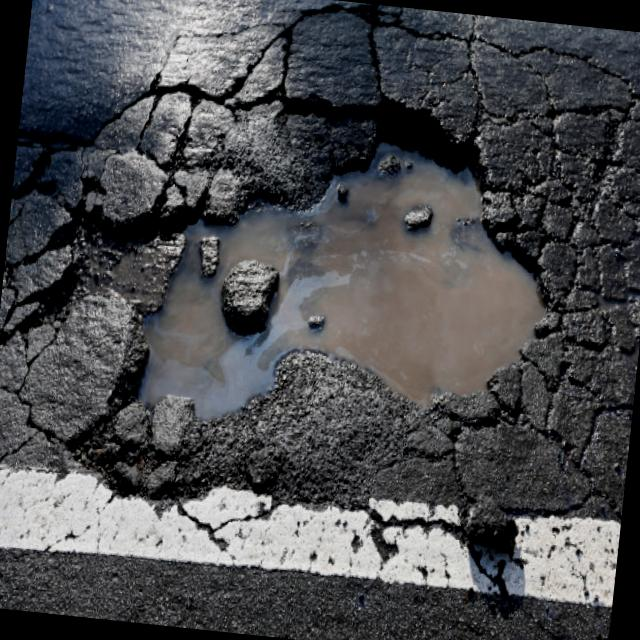bad-road: (105, 71, 572, 450), (0, 86, 135, 480), (237, 0, 640, 123), (539, 115, 640, 454)
